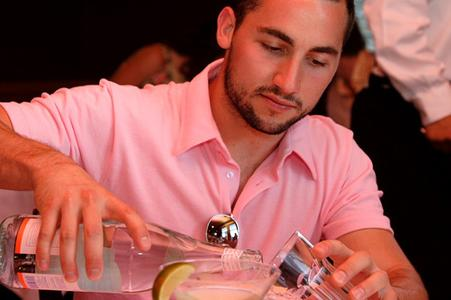person: (1, 2, 429, 299)
